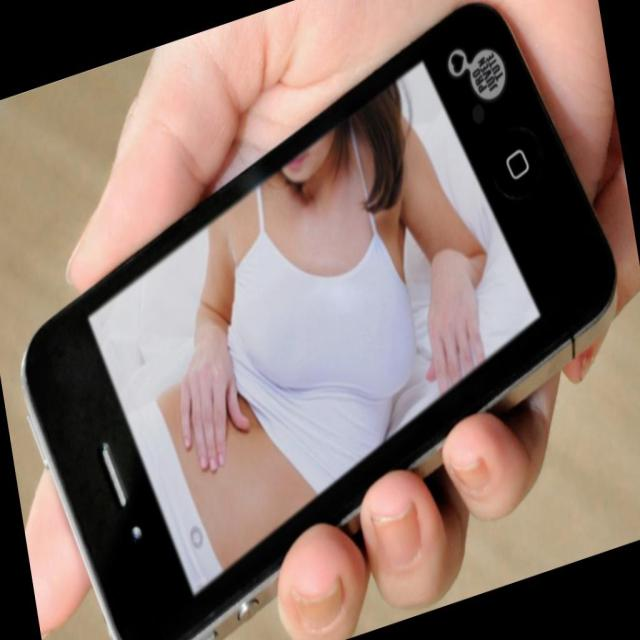handphone: (30, 14, 613, 631)
